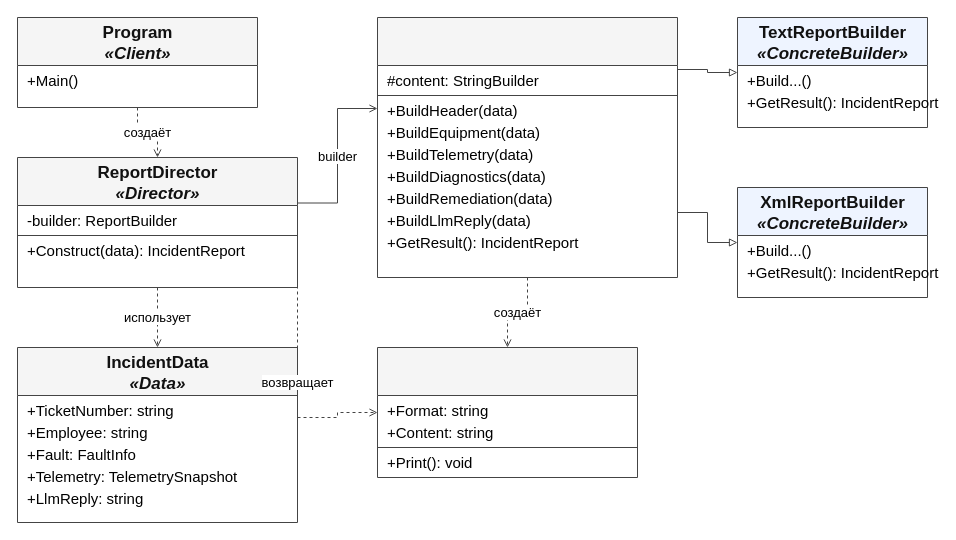
Image size: 956x540. Some labels were removed from this diagram. The box of each missing label's shape, as (x1, y1, x2, y2) in pixels:
IncidentReport «Product»: (376, 346, 638, 478)
ReportBuilder «abstract»: (376, 16, 678, 278)
